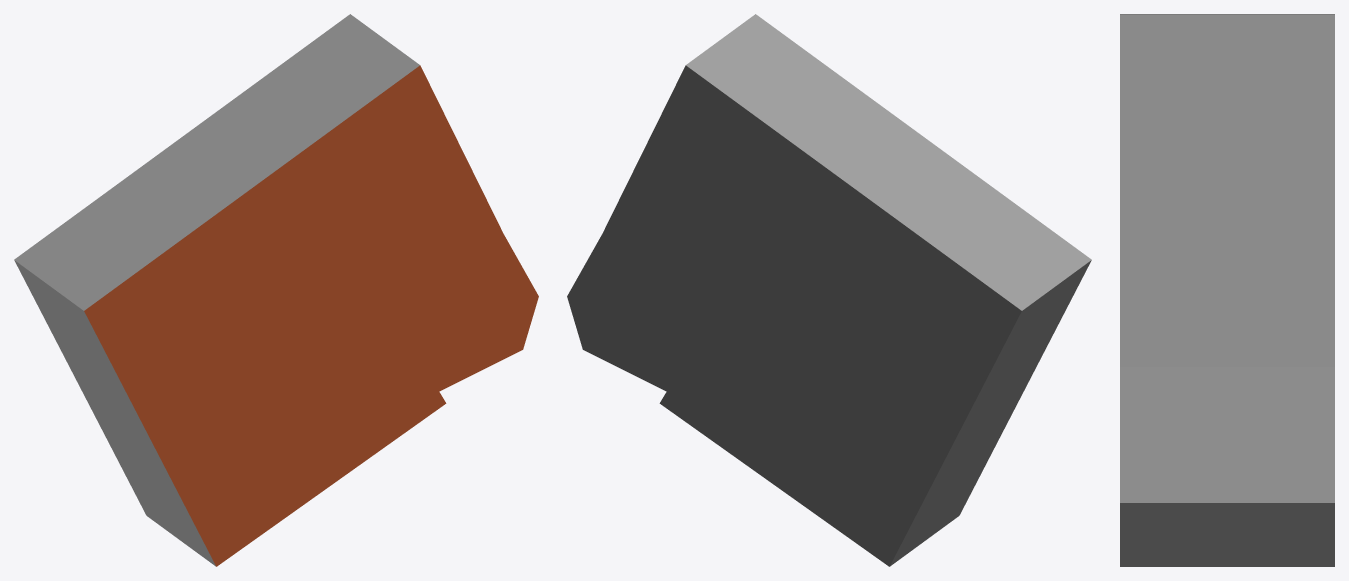
Rendered from construction_6180_assumed_A_Casa_h6m.obj.
3 views of the same model, side by side, from view 1: azimuth 30°, elevation 25°; view 2: azimuth 150°, elevation 25°; view 3: azimuth 270°, elevation 25° (orthographic). The views are drawn at different scales.
Parts seen in each view (by area): view 1: construction_6180_assumed_A_Casa; view 2: construction_6180_assumed_A_Casa; view 3: construction_6180_assumed_A_Casa.
Part boxes in pixels (x1,y1,x2,y2): construction_6180_assumed_A_Casa: (14, 14, 538, 566); construction_6180_assumed_A_Casa: (567, 14, 1091, 566); construction_6180_assumed_A_Casa: (1120, 14, 1334, 566).
Bounding box in the file's own units: 22.52 × 21.38 × 6.
